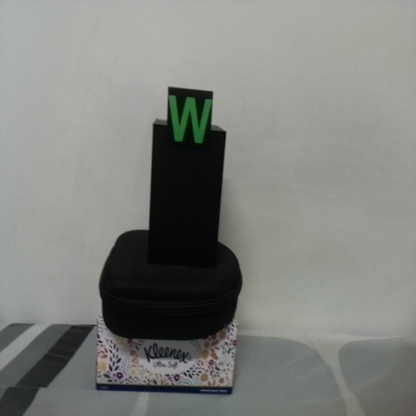id_12: (166, 87, 213, 157)
